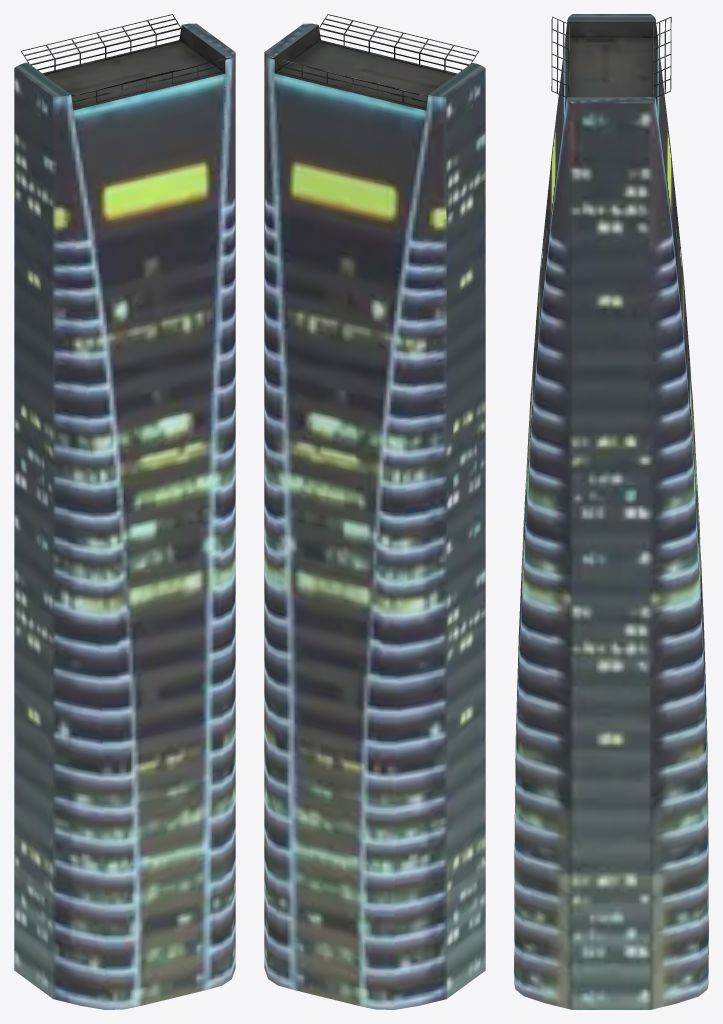
Rendered from Cube.001_Background_Night_Buildings_0.006.glb.
3 renders of one model, left to right at view 1: azimuth 30°, elevation 25°; view 2: azimuth 150°, elevation 25°; view 3: azimuth 270°, elevation 25°, orthographic.
Parts seen in each view (by area): view 1: Cube.001_Background_Night_Buildings_0.006; view 2: Cube.001_Background_Night_Buildings_0.006; view 3: Cube.001_Background_Night_Buildings_0.006.
Boxes of the visible parts, x1,y1,x2,y2 form: Cube.001_Background_Night_Buildings_0.006: (14,14,235,1009); Cube.001_Background_Night_Buildings_0.006: (264,14,485,1009); Cube.001_Background_Night_Buildings_0.006: (514,14,708,1009).
Size of the model in its own units: 17.06 by 81.11 by 15.69.
Materials: 1 (1 with a texture image).
